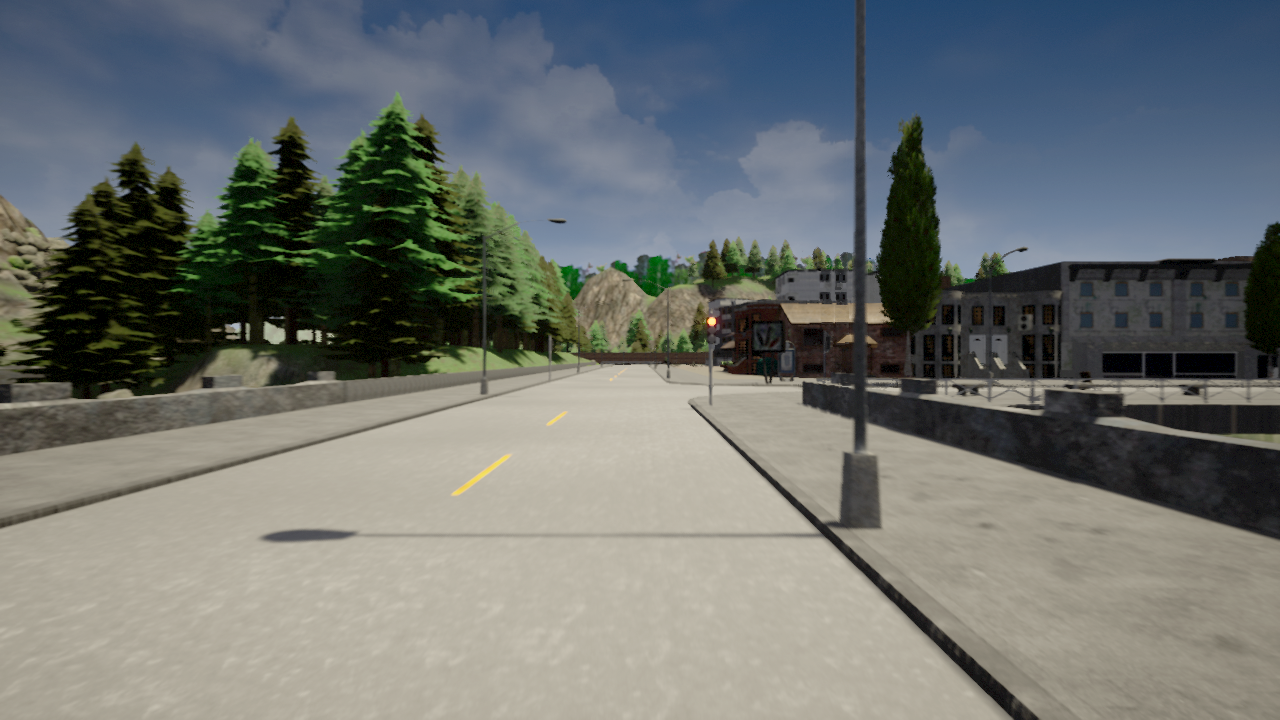red: (705, 314, 718, 344)
